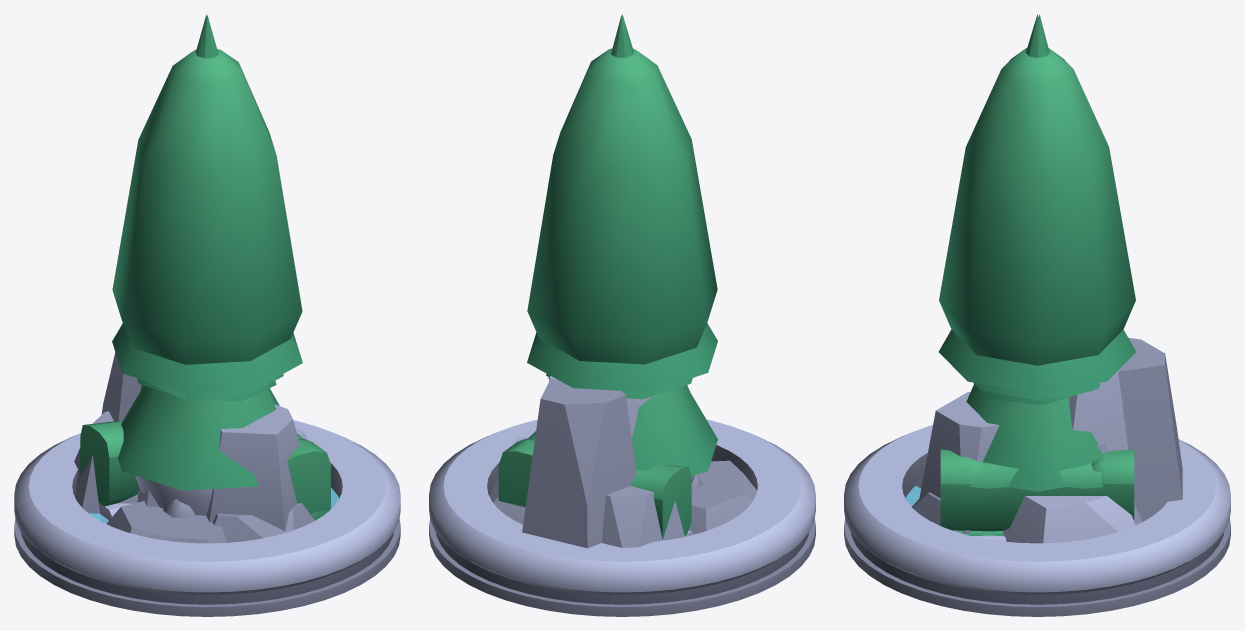
File: town-nature.glb
The picture shows the model from 3 angles, left to right: view 1: azimuth 30°, elevation 25°; view 2: azimuth 150°, elevation 25°; view 3: azimuth 270°, elevation 25°; orthographic projection.
Parts seen in each view (by area): view 1: tree_high_round_part0, fountain_round_part0, rock_large_part0, tree_part0, tree_high_part0, hedge_large_curved_part0, rock_wide_part0, hedge_large_part0, tree_crooked_part0, fountain_round_detail_part0; view 2: tree_high_round_part0, fountain_round_part0, rock_wide_part0, rock_large_part0, tree_high_part0, tree_part0, hedge_large_curved_part0, hedge_large_part0, tree_crooked_part0; view 3: tree_high_round_part0, fountain_round_part0, rock_large_part0, rock_wide_part0, tree_part0, hedge_large_part0, tree_high_part0, hedge_large_gate_part0, rock_small_part0, tree_crooked_part0.
Boxes of the visible parts, left/top/right/bottom form: tree_high_round_part0: left=112, top=49, right=302, bottom=364; fountain_round_part0: left=14, top=420, right=400, bottom=616; rock_large_part0: left=74, top=385, right=308, bottom=543; tree_part0: left=118, top=374, right=283, bottom=490; tree_high_part0: left=112, top=15, right=302, bottom=392; hedge_large_curved_part0: left=80, top=421, right=330, bottom=522; rock_wide_part0: left=97, top=352, right=314, bottom=542; hedge_large_part0: left=287, top=451, right=330, bottom=520; tree_crooked_part0: left=140, top=380, right=276, bottom=427; fountain_round_detail_part0: left=135, top=475, right=212, bottom=515; tree_high_round_part0: left=527, top=48, right=717, bottom=364; fountain_round_part0: left=429, top=419, right=815, bottom=616; rock_wide_part0: left=522, top=378, right=636, bottom=548; rock_large_part0: left=489, top=396, right=756, bottom=547; tree_high_part0: left=527, top=14, right=717, bottom=392; tree_part0: left=546, top=374, right=717, bottom=476; hedge_large_curved_part0: left=630, top=465, right=694, bottom=539; hedge_large_part0: left=498, top=431, right=535, bottom=507; tree_crooked_part0: left=548, top=375, right=689, bottom=428; tree_high_round_part0: left=939, top=48, right=1135, bottom=365; fountain_round_part0: left=844, top=425, right=1230, bottom=616; rock_large_part0: left=912, top=392, right=1142, bottom=543; rock_wide_part0: left=912, top=337, right=1182, bottom=531; tree_part0: left=966, top=382, right=1102, bottom=491; hedge_large_part0: left=940, top=462, right=1134, bottom=541; tree_high_part0: left=938, top=14, right=1136, bottom=393; hedge_large_gate_part0: left=940, top=449, right=1134, bottom=539; rock_small_part0: left=1069, top=371, right=1135, bottom=507; tree_crooked_part0: left=969, top=382, right=1100, bottom=429.
Bounding box in the file's own units: 2 × 2.97 × 2.
2 materials, 1 textured.
